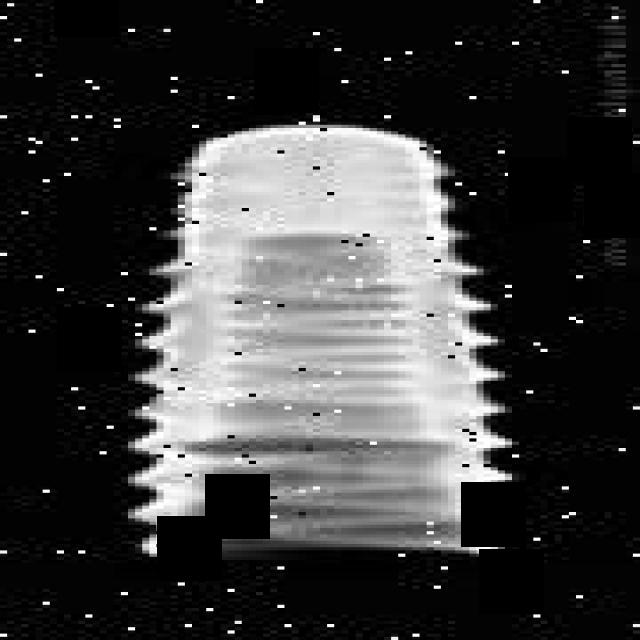Titan Implant Implant: (125, 117, 505, 557)
